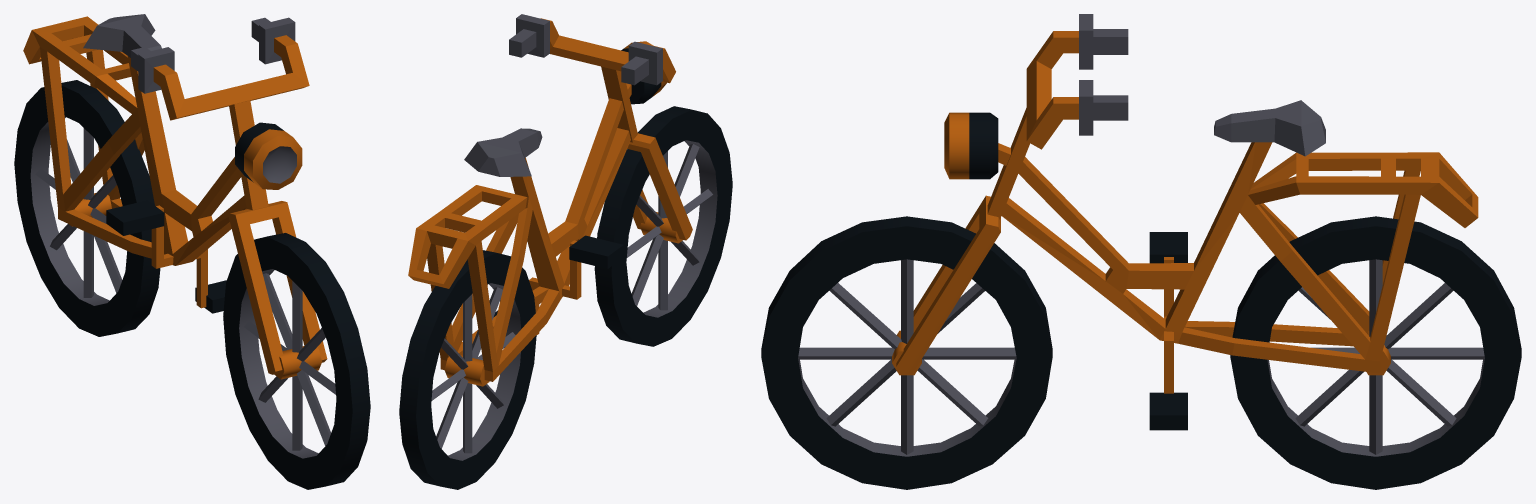
Rendered from Bicycle.fbx.
The picture shows the model from 3 angles, left to right: view 1: azimuth 30°, elevation 25°; view 2: azimuth 150°, elevation 25°; view 3: azimuth 270°, elevation 25°; orthographic projection. The views are drawn at different scales.
Parts seen in each view (by area): view 1: Bicycle; view 2: Bicycle; view 3: Bicycle.
Part boxes in pixels (x1,y1,x2,y2): Bicycle: [14, 14, 370, 489]; Bicycle: [399, 14, 732, 489]; Bicycle: [761, 14, 1521, 489].
Bounding box in the file's own units: 22.26 × 53.99 × 86.57.
